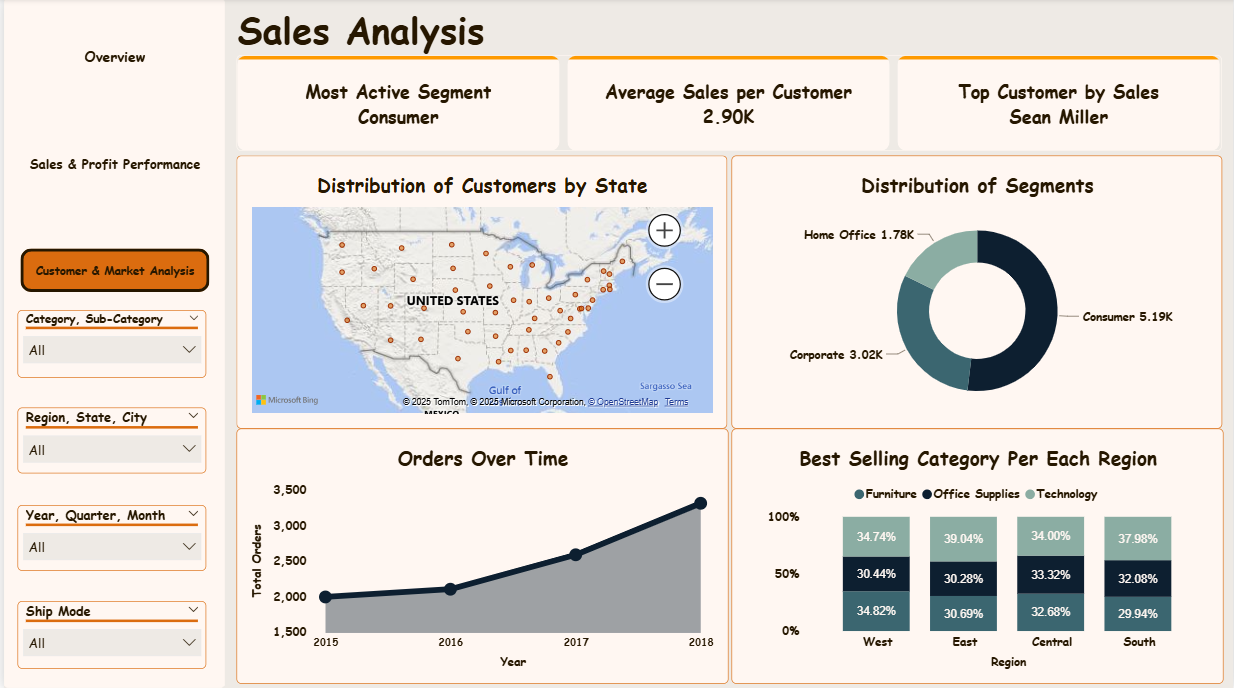

The page's visual inventory and layout, read from the dashboard file:
{"tool":"powerbi","page":{"name":"Customer & Market Analysis","canvas":[1280,720],"ordinal":2},"visuals":[{"type":"textbox","box":[211,6.3,373.6,57.8],"z":0},{"type":"shape","box":[0,0,229.8,720],"z":1000},{"type":"actionButton","box":[17.2,149.3,196.9,45.3],"z":2000},{"type":"actionButton","box":[17.2,261,196.9,45.3],"z":3000},{"type":"cardVisual","fields":{"Data":["Table 1 (Sheet1).Most Active Segment","Table 1 (Sheet1).Average Sales per Customer","Table 1 (Sheet1).Top Customer by Sales"]},"box":[242.3,59.4,1026.9,100],"z":4000},{"type":"actionButton","box":[17.2,37.5,196.9,45.3],"z":5000},{"type":"slicer","fields":{"Values":["Table 1 (Sheet1).Ship Mode"]},"box":[14.1,628.3,196.9,70.3],"z":6000},{"type":"slicer","fields":{"Values":["Table 1 (Sheet1).Region","Table 1 (Sheet1).State","Table 1 (Sheet1).City"]},"box":[14.1,427.2,196.9,68.8],"z":7000},{"type":"slicer","fields":{"Values":["Table 1 (Sheet1).Order Date.Variation.Date Hierarchy.Year","Table 1 (Sheet1).Order Date.Variation.Date Hierarchy.Quarter","Table 1 (Sheet1).Order Date.Variation.Date Hierarchy.Month"]},"box":[14.1,527.8,196.9,68.8],"z":8000},{"type":"slicer","fields":{"Values":["Table 1 (Sheet1).Category","Table 1 (Sheet1).Sub-Category"]},"box":[14.1,325.1,196.9,70.3],"z":10000},{"type":"map","title":"Distribution of Customers by State","fields":{"Category":["Table 1 (Sheet1).State"]},"box":[242.3,164.1,511.1,284.5],"z":11000},{"type":"donutChart","title":"Distribution of Segments","fields":{"Category":["Table 1 (Sheet1).Segment"],"Y":["CountNonNull(Table 1 (Sheet1).Segment)"]},"box":[758,164.1,511.1,284.5],"z":12000},{"type":"lineChart","title":"Orders Over Time","fields":{"Category":["Table 1 (Sheet1).Order Date.Variation.Date Hierarchy.Year","Table 1 (Sheet1).Order Date.Variation.Date Hierarchy.Quarter","Table 1 (Sheet1).Order Date.Variation.Date Hierarchy.Month","Table 1 (Sheet1).Order Date.Variation.Date Hierarchy.Day"],"Y":["CountNonNull(Table 1 (Sheet1).Order ID)"]},"box":[242.3,448.6,512.7,265.7],"z":13000},{"type":"hundredPercentStackedColumnChart","title":"Best Selling Category Per Each Region","fields":{"Category":["Table 1 (Sheet1).Region"],"Y":["Sum(Table 1 (Sheet1).Sales)"],"Series":["Table 1 (Sheet1).Category"]},"box":[758,448.6,512.7,265.7],"z":14000}]}

Visuals, with their boxes in screenshot pixels (x1, y1, x2, y2), scaled from the page's 1280x720 canvas onto the 1234x688 screenshot:
textbox: 203/6/564/61
shape: 0/0/222/687
actionButton: 17/143/206/186
actionButton: 17/249/206/293
cardVisual - Table 1 (Sheet1).Most Active Segment x Table 1 (Sheet1).Average Sales per Customer: 234/57/1224/152
actionButton: 17/36/206/79
slicer - Table 1 (Sheet1).Ship Mode: 14/600/203/668
slicer - Table 1 (Sheet1).Region x Table 1 (Sheet1).State: 14/408/203/474
slicer - Table 1 (Sheet1).Order Date.Variation.Date Hierarchy.Year x Table 1 (Sheet1).Order Date.Variation.Date Hierarchy.Quarter: 14/504/203/570
slicer - Table 1 (Sheet1).Category x Table 1 (Sheet1).Sub-Category: 14/311/203/378
"Distribution of Customers by State" map: 234/157/726/429
"Distribution of Segments" donutChart: 731/157/1223/429
"Orders Over Time" lineChart: 234/429/728/683
"Best Selling Category Per Each Region" hundredPercentStackedColumnChart: 731/429/1225/683
